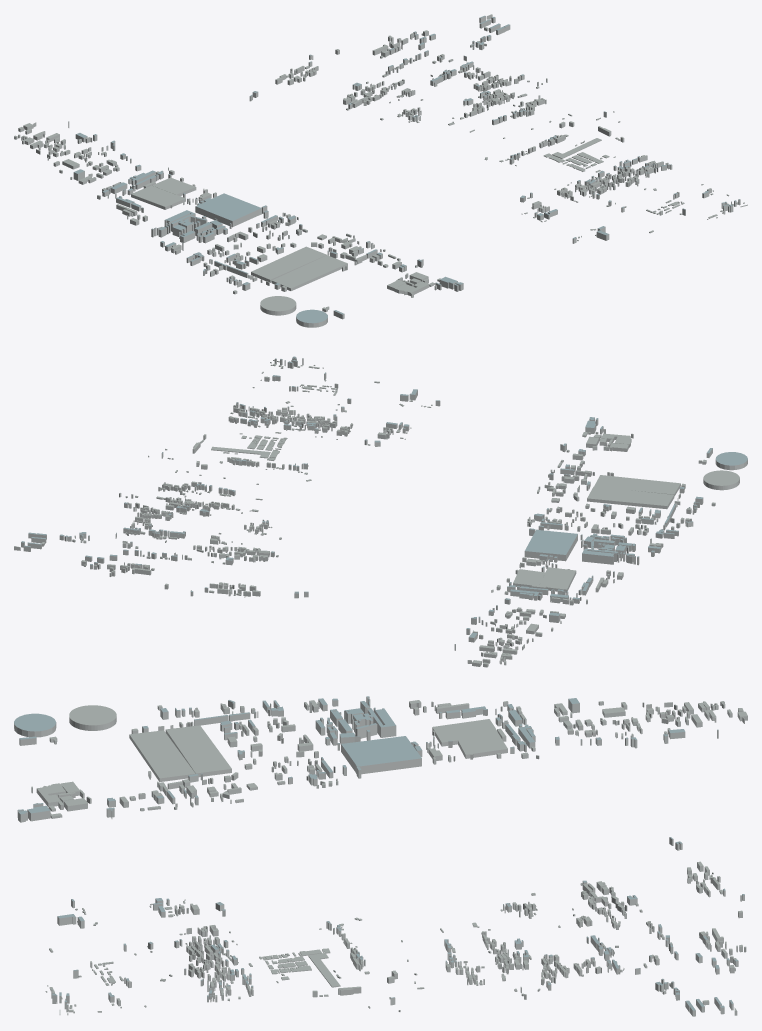
File: far.glb
3 views of the same model, one above another, from view 1: azimuth 30°, elevation 25°; view 2: azimuth 150°, elevation 25°; view 3: azimuth 270°, elevation 25° (orthographic). The views are drawn at different scales.
Size of the model in its own units: 2105 by 33.1 by 2089.
